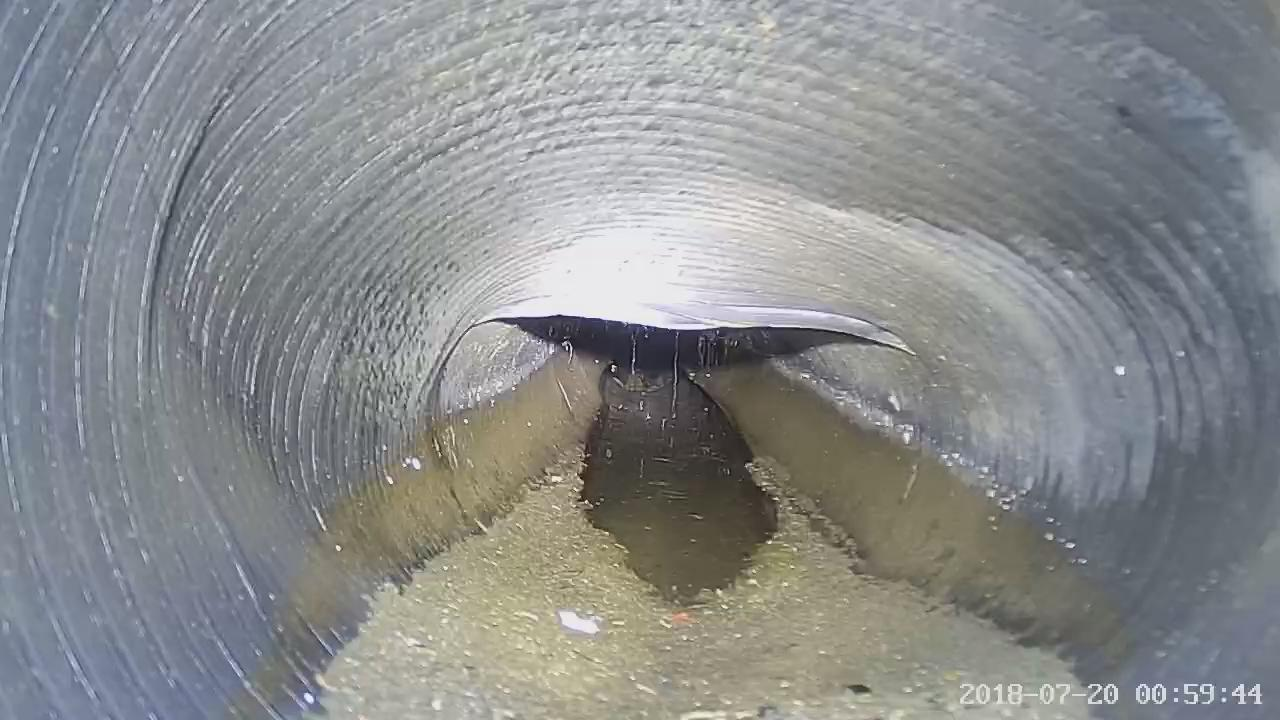BX: (448, 256, 942, 394)
CJ: (320, 445, 1088, 719)
